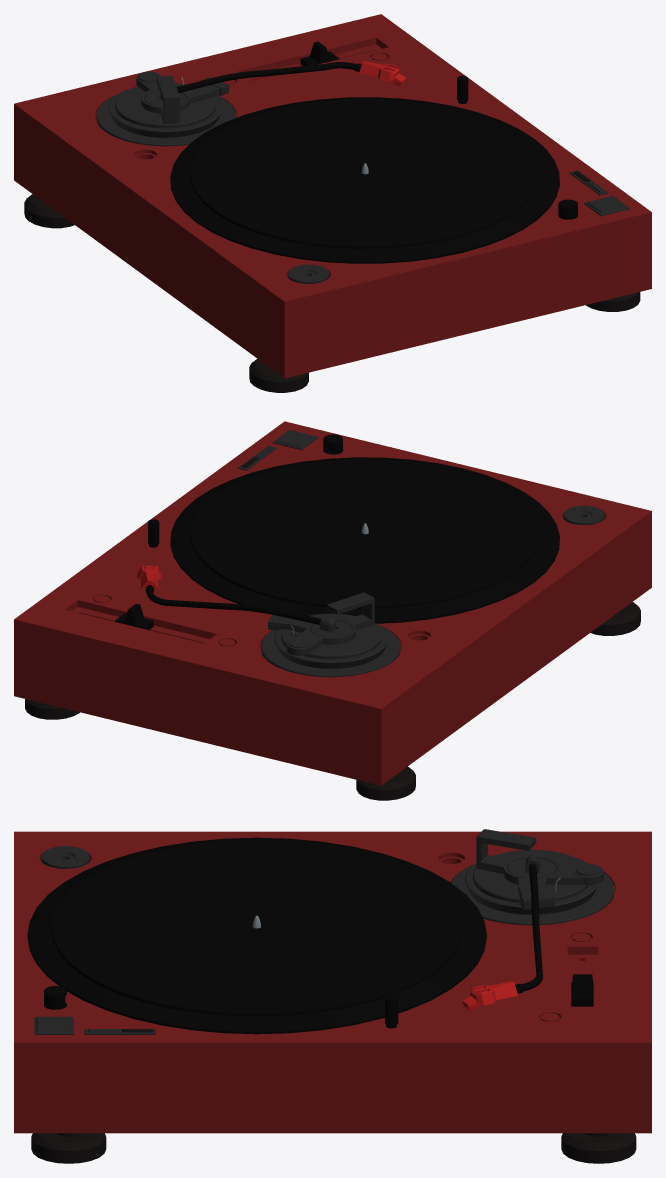
Rendered from vinyl_player.glb.
3 renders of one model, top to bottom at view 1: azimuth 30°, elevation 25°; view 2: azimuth 150°, elevation 25°; view 3: azimuth 270°, elevation 25°, orthographic. The views are drawn at different scales.
Parts seen in each view (by area): view 1: pCube17, pCylinder2, pCylinder21, pCylinder25, pCylinder16, pCylinder23, pCylinder33, pCylinder34, pCylinder30, pCylinder13, pCylinder31, pCube10; view 2: pCube17, pCylinder2, pCylinder21, pCylinder25, pCylinder16, pCylinder23, pCylinder34, pCylinder33, pCylinder32, pCylinder13, pCube10; view 3: pCube17, pCylinder2, pCylinder21, pCylinder25, pCylinder16, pCylinder31, pCylinder32, pCylinder23, pCylinder30, pCylinder13, pCube10, pCube6 (+2 smaller).
Part boxes in pixels (box(x1,y1,x2,y2)): pCube17: box(14, 14, 651, 378); pCylinder2: box(170, 97, 559, 263); pCylinder21: box(108, 83, 222, 137); pCylinder25: box(139, 75, 228, 124); pCylinder16: box(96, 94, 236, 146); pCylinder23: box(176, 62, 361, 92); pCylinder33: box(249, 359, 308, 392); pCylinder34: box(24, 194, 74, 228); pCylinder30: box(359, 61, 406, 86); pCylinder13: box(288, 264, 329, 283); pCylinder31: box(586, 292, 640, 311); pCube10: box(584, 196, 629, 216); pCube17: box(14, 421, 651, 785); pCylinder2: box(170, 457, 559, 623); pCylinder21: box(274, 613, 388, 668); pCylinder25: box(268, 592, 374, 651); pCylinder16: box(261, 625, 400, 677); pCylinder23: box(145, 585, 320, 624); pCylinder34: box(356, 766, 415, 800); pCylinder33: box(590, 602, 640, 635); pCylinder32: box(25, 699, 79, 719); pCylinder13: box(563, 505, 604, 525); pCube10: box(272, 430, 318, 450); pCube17: box(14, 831, 651, 1133); pCylinder2: box(27, 837, 486, 1034); pCylinder21: box(465, 849, 598, 914); pCylinder25: box(476, 829, 585, 909); pCylinder16: box(451, 863, 614, 925); pCylinder31: box(31, 1133, 106, 1163); pCylinder32: box(561, 1133, 636, 1163); pCylinder23: box(515, 863, 542, 993); pCylinder30: box(462, 981, 518, 1010); pCylinder13: box(41, 846, 89, 868); pCube10: box(34, 1016, 73, 1034); pCube6: box(571, 974, 593, 1006).
Bounding box in the file's own units: 1.59 × 0.5579 × 1.96.
